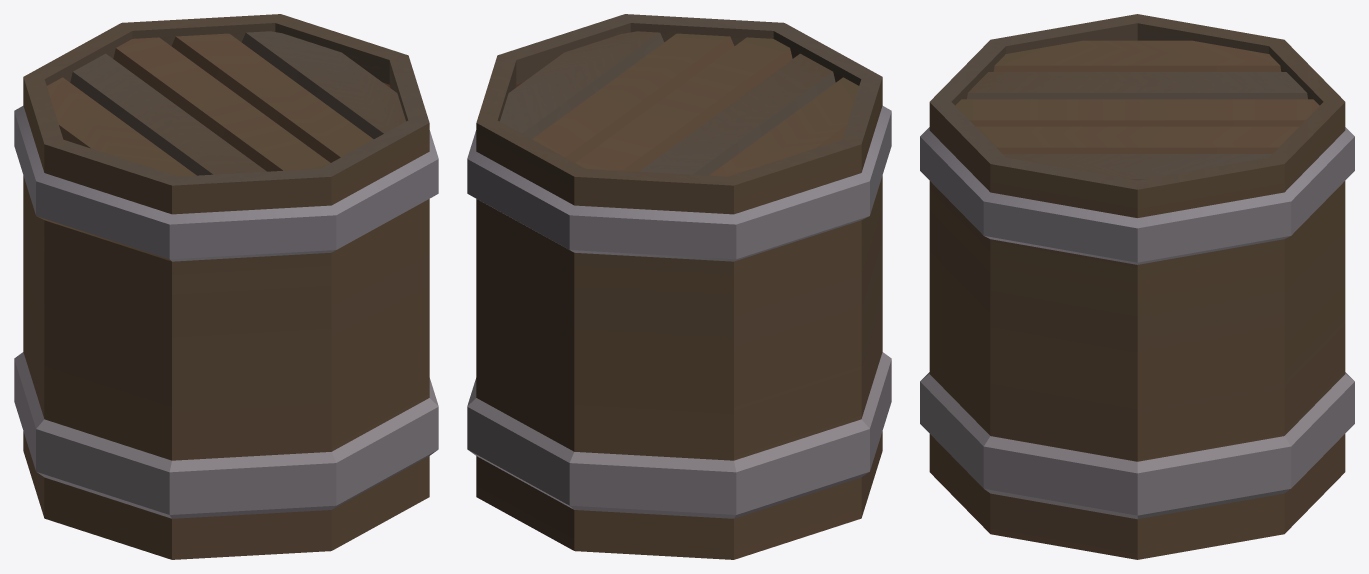
Rendered from SM_Barrel_1B.FBX.
3 renders of one model, left to right at view 1: azimuth 30°, elevation 25°; view 2: azimuth 150°, elevation 25°; view 3: azimuth 270°, elevation 25°, orthographic.
Visible parts, largest first — view 1: SM_Barrel_1B; view 2: SM_Barrel_1B; view 3: SM_Barrel_1B.
Part boxes in pixels (x1,y1,x2,y2): SM_Barrel_1B: (14,14,438,559); SM_Barrel_1B: (467,14,891,559); SM_Barrel_1B: (920,14,1354,559).
Size of what is drawn, in the model's own units: 105 by 105 by 99.
